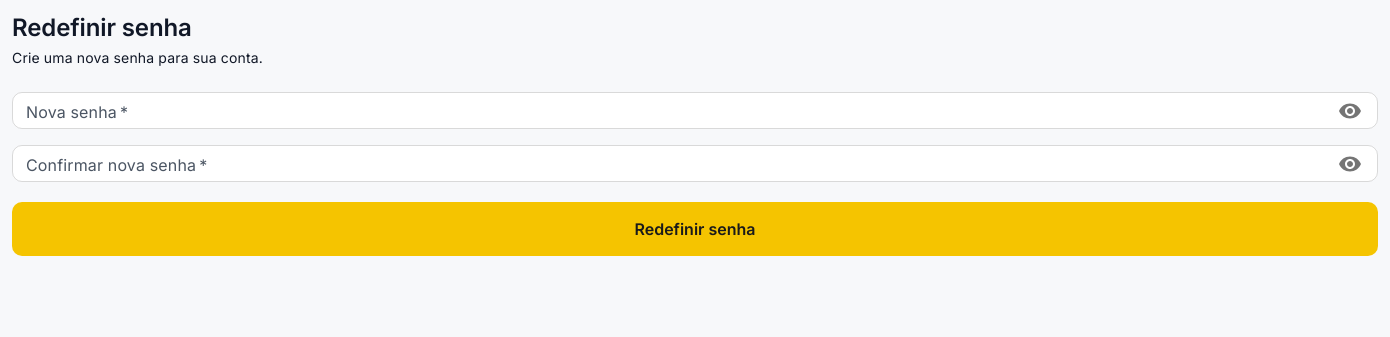
Test: /reset-password — MFA e mapeamento de erros (FEAUTH-01/02/03) › erro no proxy sem corpo JSON não é confundido com falha de conexão
In the password field labelled "Nova senha *": (668, 111) [12,92,1325,129], type "SenhaForte123"
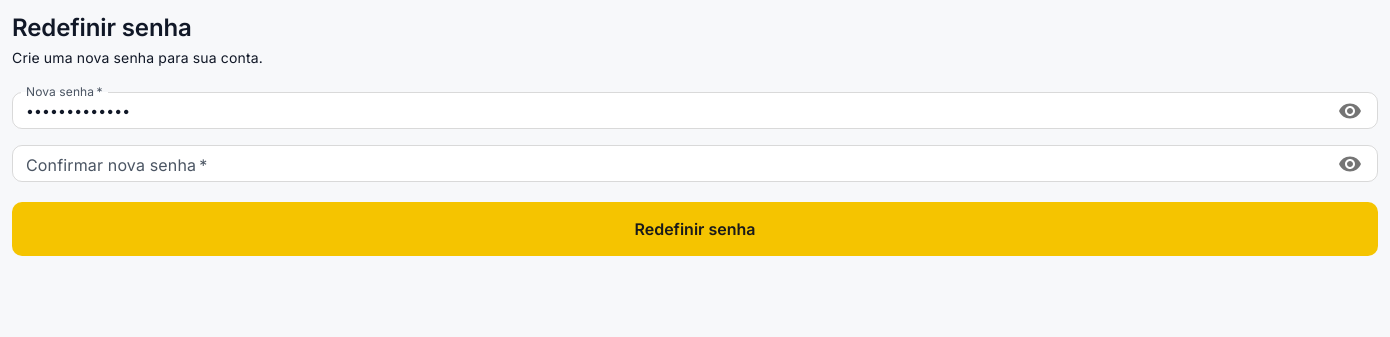
In the password field labelled "Confirmar nova senha *": (668, 164) [12,145,1325,182], type "SenhaForte123"
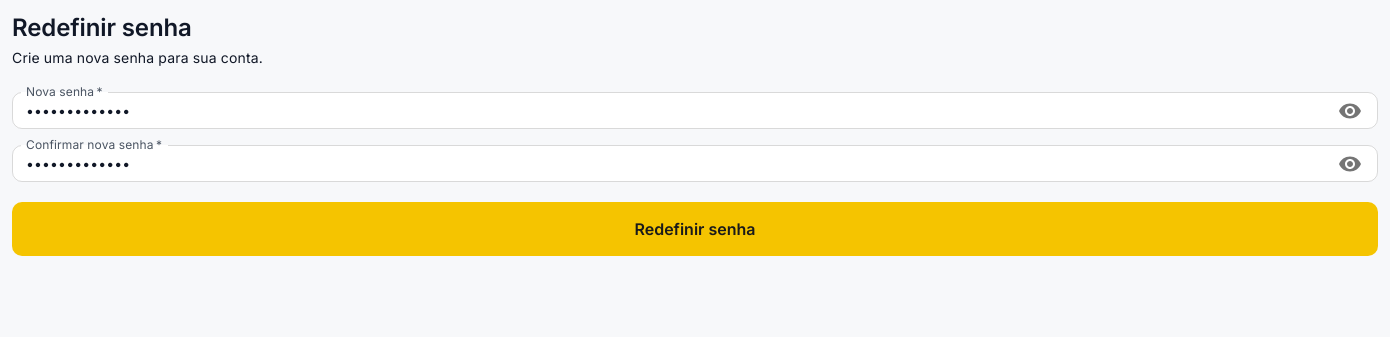
Click the button "Redefinir senha": (695, 229) [12,202,1378,256]
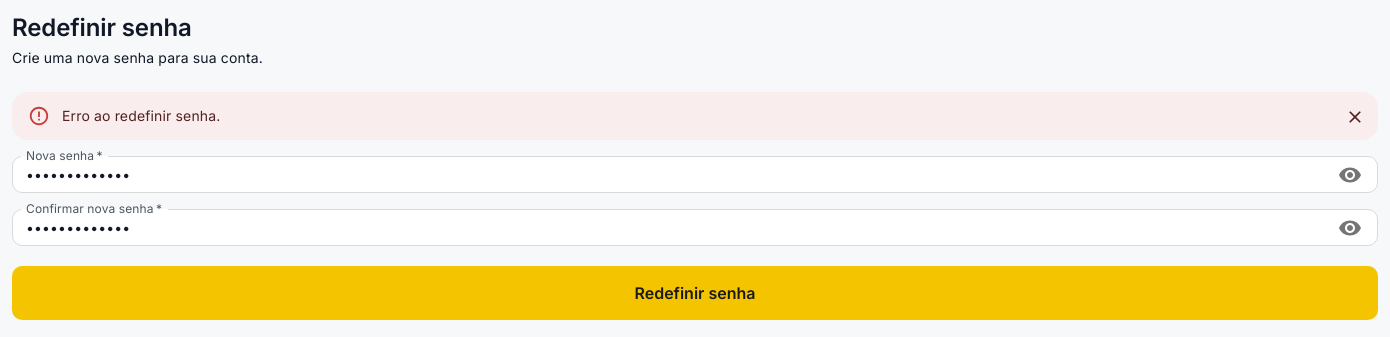
Expected: the text "Erro ao redefinir senha." is shown, [62,107,220,124]
